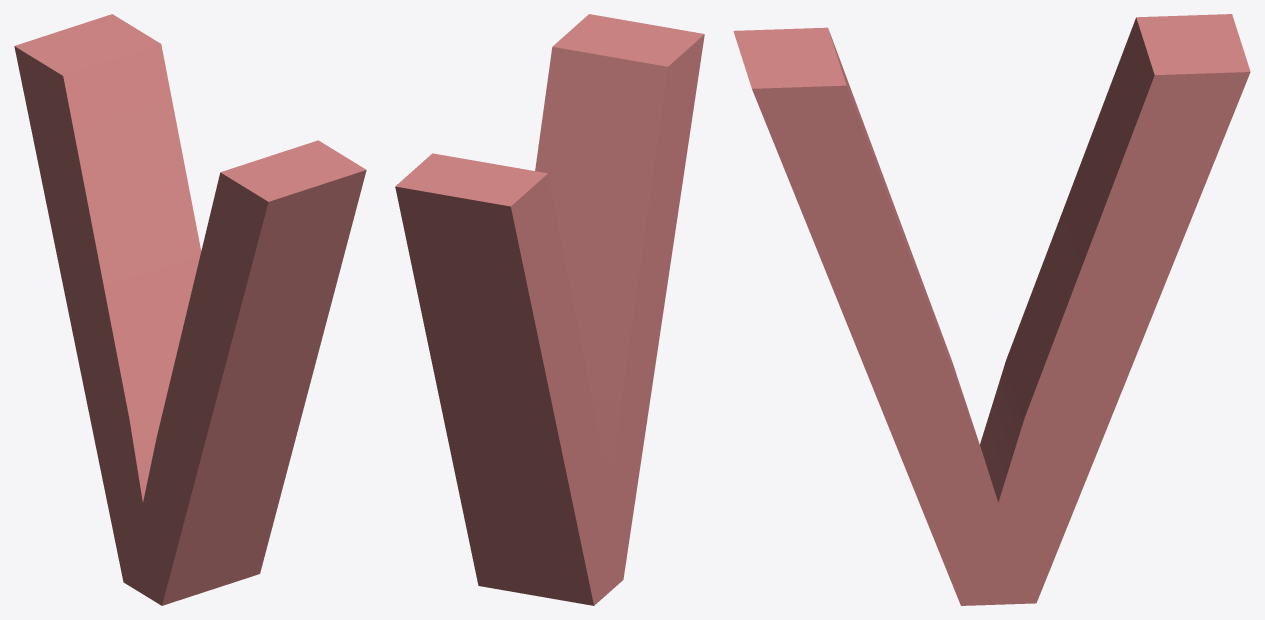
File: ProjectName.gltf
3 renders of one model, left to right at view 1: azimuth 30°, elevation 25°; view 2: azimuth 150°, elevation 25°; view 3: azimuth 270°, elevation 25°, orthographic. The views are drawn at different scales.
Visible parts, largest first — view 1: 3D Text - V - baked; view 2: 3D Text - V - baked; view 3: 3D Text - V - baked.
Part boxes in pixels (x1,y1,x2,y2): 3D Text - V - baked: (14, 14, 366, 605); 3D Text - V - baked: (395, 14, 704, 605); 3D Text - V - baked: (733, 14, 1250, 605).
Bounding box in the file's own units: 0.0115 × 0.0374 × 0.0335.
